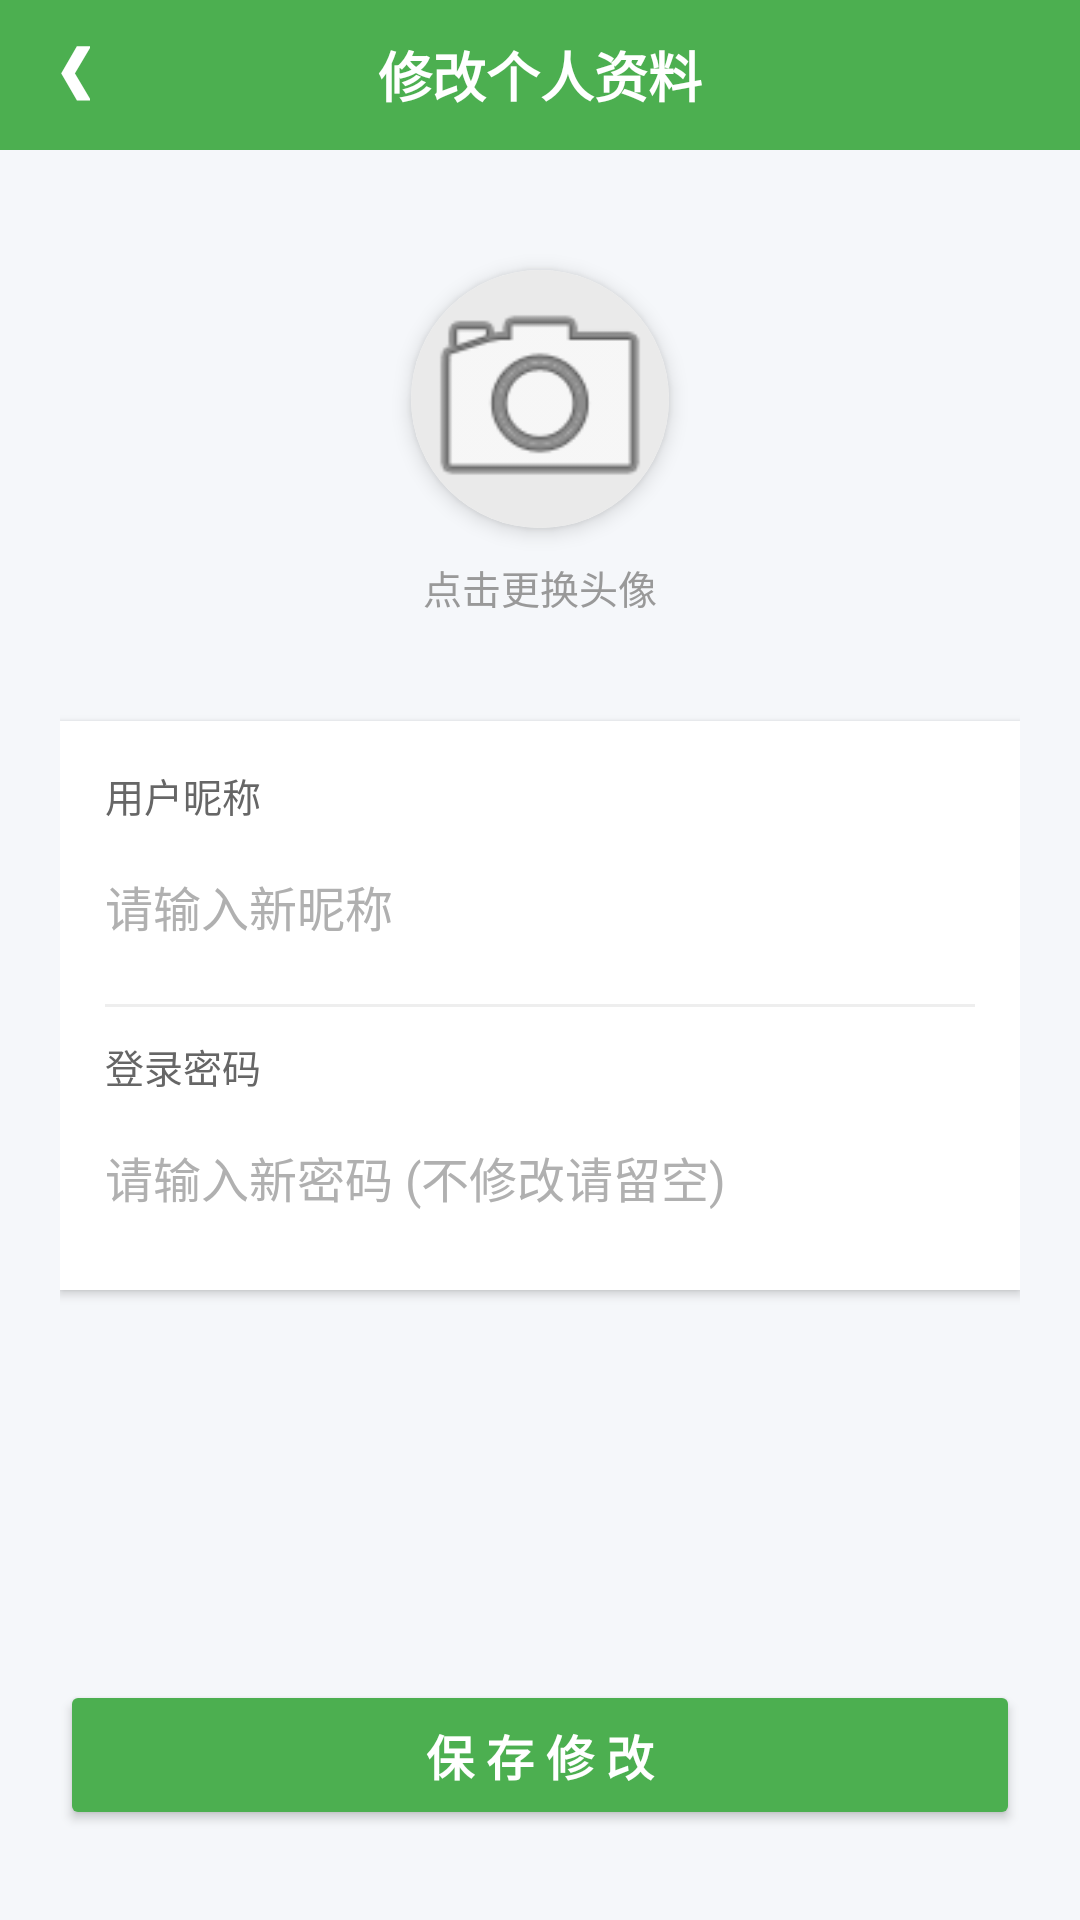

Screen size 1080w x 1920h. Icon name, then its center in pixels as point (x, y):
camera: point (540, 421)
